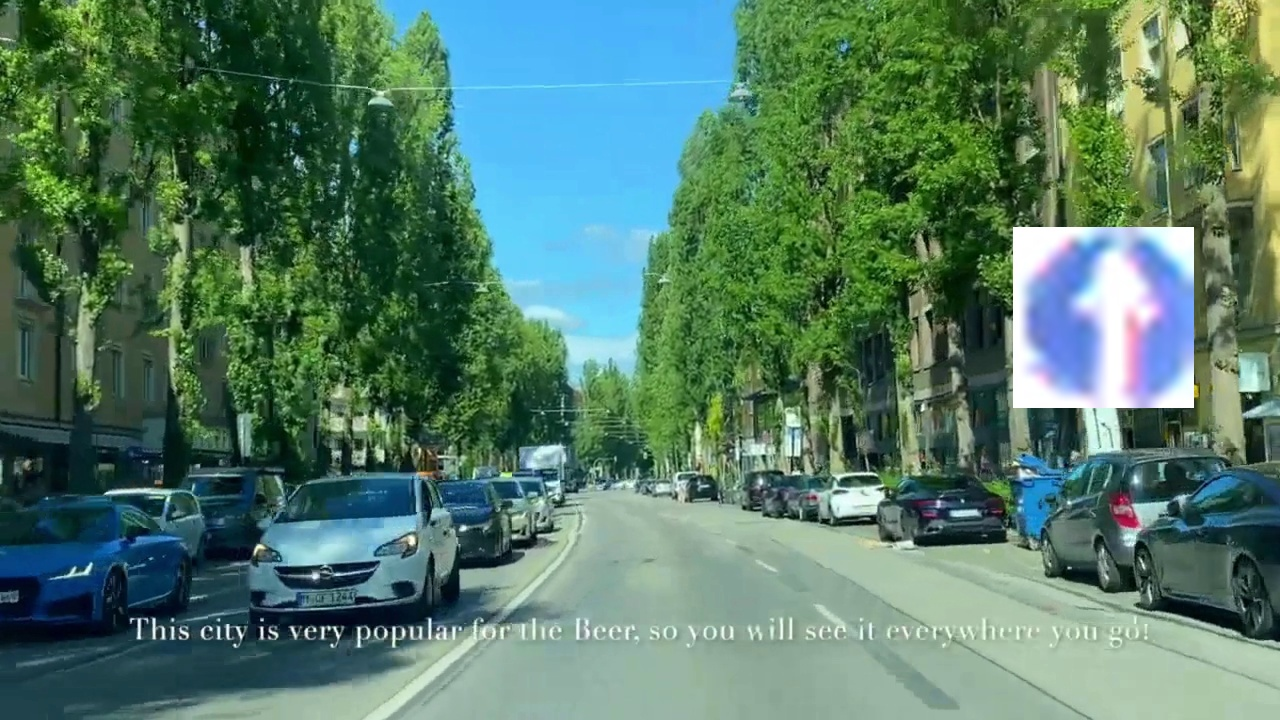Ahead only: (1013, 227, 1194, 408)
